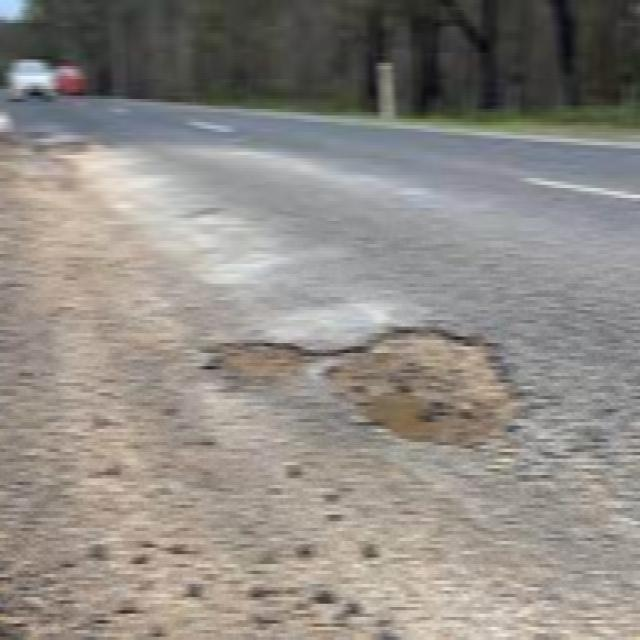Pothole: (185, 319, 536, 460)
